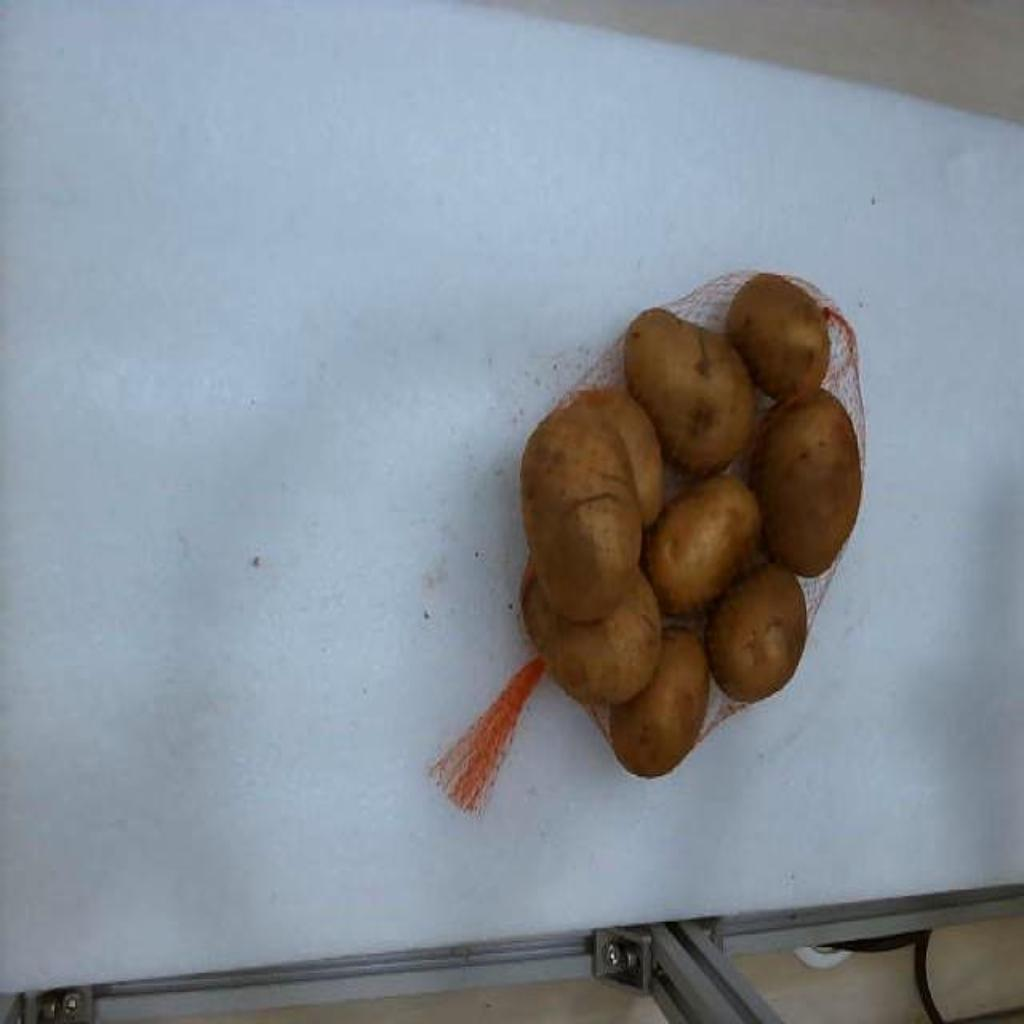potato: (520, 392, 662, 620), (624, 309, 754, 475), (752, 389, 862, 576), (522, 571, 662, 703), (644, 480, 758, 615), (610, 629, 708, 777), (534, 491, 642, 621), (706, 563, 806, 701), (534, 496, 642, 621), (728, 275, 830, 399)
